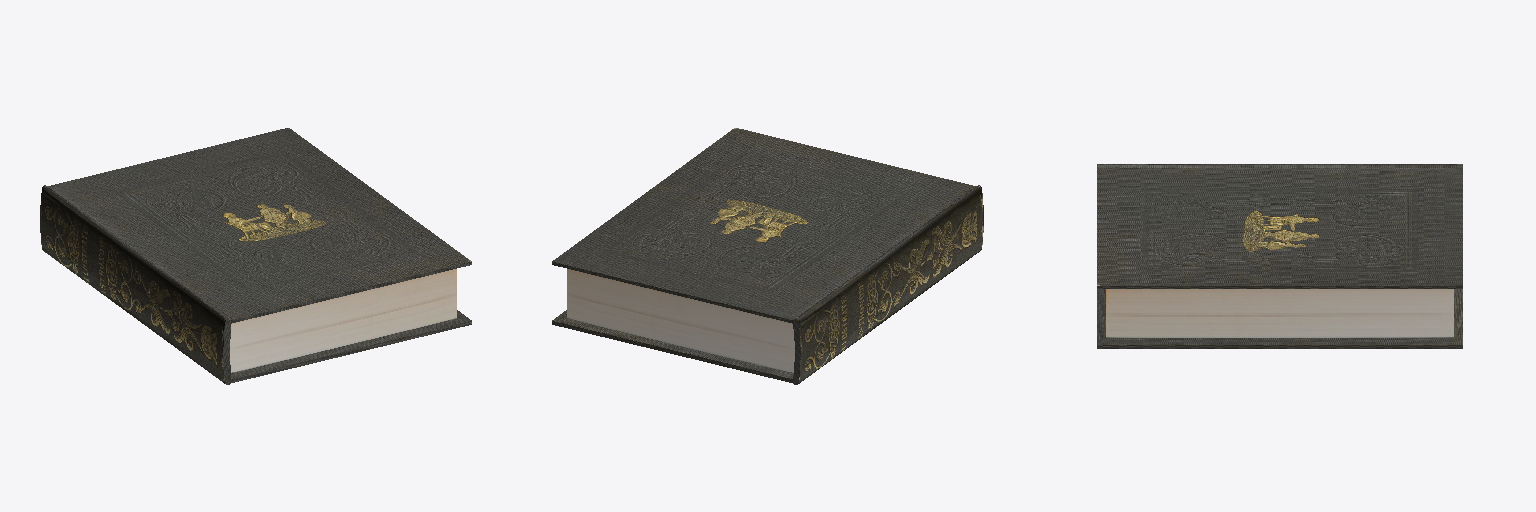
3 views of the same model, side by side, from view 1: azimuth 30°, elevation 25°; view 2: azimuth 150°, elevation 25°; view 3: azimuth 270°, elevation 25° (orthographic).
Parts seen in each view (by area): view 1: Cube; view 2: Cube; view 3: Cube.
Boxes of the visible parts, x1=… form: Cube: x1=40, y1=128, x2=471, y2=384; Cube: x1=552, y1=128, x2=983, y2=384; Cube: x1=1097, y1=164, x2=1462, y2=348.
Bounding box in the file's own units: 0.1984 × 0.0503 × 0.2532.
2 materials, 2 textured.